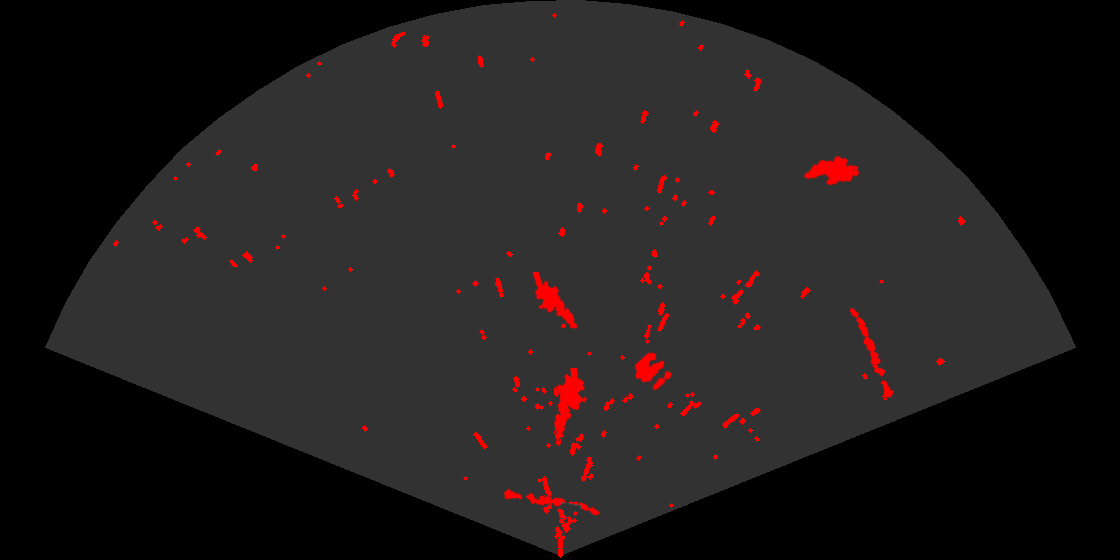AUV: (802, 154, 861, 187)
ball: (633, 351, 673, 392)
chain: (848, 306, 895, 400), (501, 487, 601, 517)
frogman: (531, 272, 579, 331), (553, 368, 589, 441)
